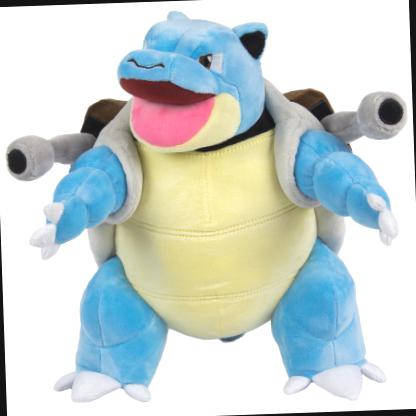Turtok: (0, 0, 415, 415), (0, 0, 415, 411)
